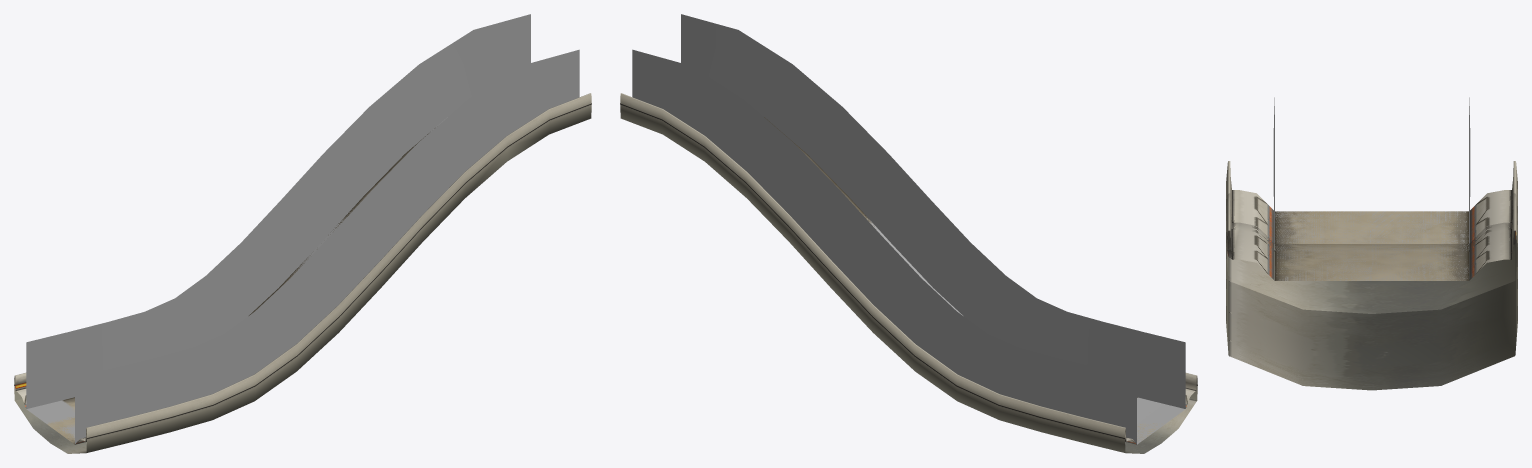
File: road_ramp_long.fbx
The picture shows the model from 3 angles, left to right: view 1: azimuth 30°, elevation 25°; view 2: azimuth 150°, elevation 25°; view 3: azimuth 270°, elevation 25°; orthographic projection. The views are drawn at different scales.
Visible parts, largest first — view 1: colider_ramp_long, road_ramp_long; view 2: colider_ramp_long, road_ramp_long; view 3: road_ramp_long, colider_ramp_long.
Boxes of the visible parts, x1,y1,x2,y2 form: colider_ramp_long: (26,14,579,443); road_ramp_long: (14,93,591,453); colider_ramp_long: (632,14,1185,444); road_ramp_long: (620,93,1197,453); road_ramp_long: (1226,161,1517,390); colider_ramp_long: (1273,97,1470,280).
Size of the model in its own units: 96 by 52.46 by 24.02.
Materials: 4 (3 with a texture image).
